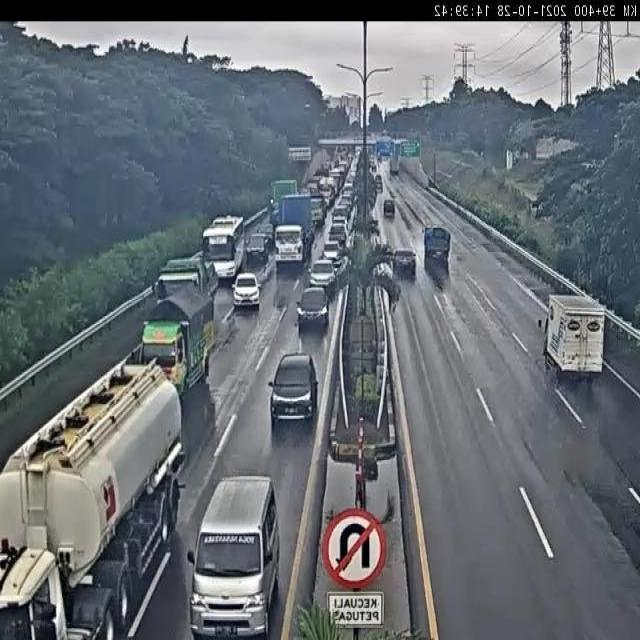Bus: (200, 213, 245, 284)
Car: (268, 352, 319, 422), (296, 284, 333, 329), (231, 273, 262, 310), (307, 260, 337, 290), (245, 231, 270, 264), (391, 247, 418, 277), (321, 240, 343, 268), (328, 223, 349, 246), (256, 223, 276, 246), (332, 204, 349, 225), (383, 197, 396, 216), (340, 194, 354, 210), (376, 182, 383, 192), (374, 174, 382, 181), (371, 165, 376, 172)
Truck: (0, 355, 186, 640), (136, 282, 216, 400), (536, 293, 608, 382), (151, 254, 221, 309), (273, 192, 315, 270), (270, 177, 299, 228), (421, 225, 452, 265), (318, 175, 335, 207), (312, 193, 326, 229), (389, 157, 400, 175)
Van: (188, 472, 285, 640)
